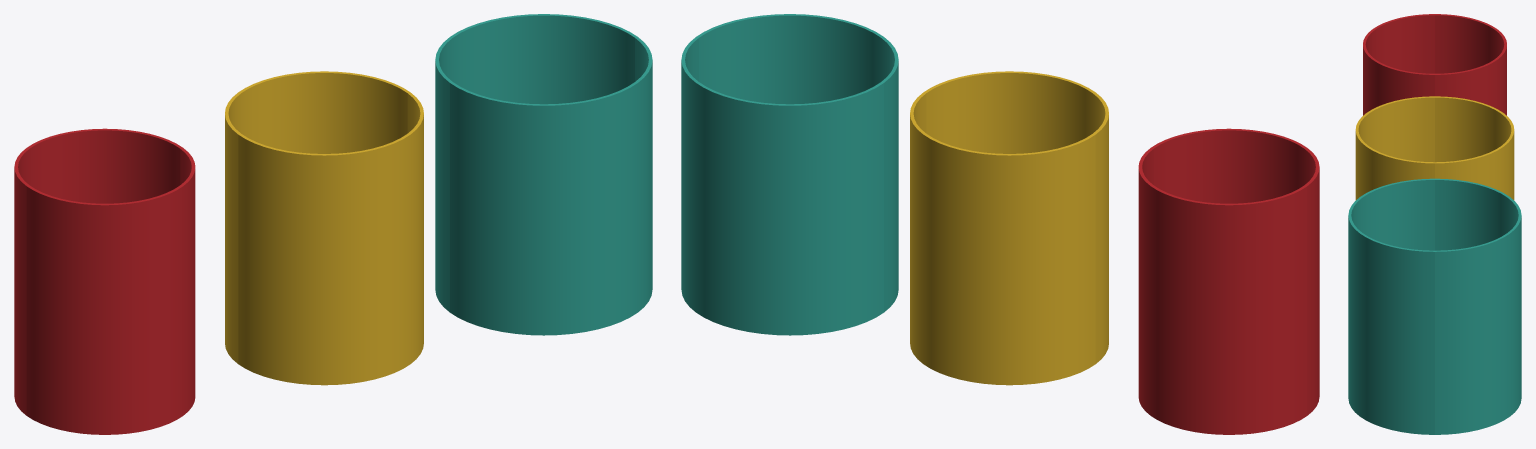
The model's file is multi_stage_flash_vessel_pressure.glb.
3 renders of one model, left to right at view 1: azimuth 30°, elevation 25°; view 2: azimuth 150°, elevation 25°; view 3: azimuth 270°, elevation 25°, orthographic. The views are drawn at different scales.
Parts seen in each view (by area): view 1: pressure__front, pressure__back; view 2: pressure__back, pressure__front; view 3: pressure__back, pressure__front.
Boxes of the visible parts, x1,y1,x2,y2 form: pressure__front: [26, 37, 652, 434]; pressure__back: [14, 14, 637, 415]; pressure__back: [681, 37, 1307, 434]; pressure__front: [696, 14, 1319, 415]; pressure__back: [1435, 14, 1521, 434]; pressure__front: [1348, 14, 1434, 434].
Bounding box in the file's own units: 3.9 × 1.4 × 1.2.
